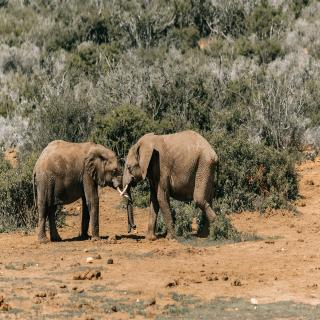Elephant: (123, 130, 233, 242), (30, 138, 134, 244)
